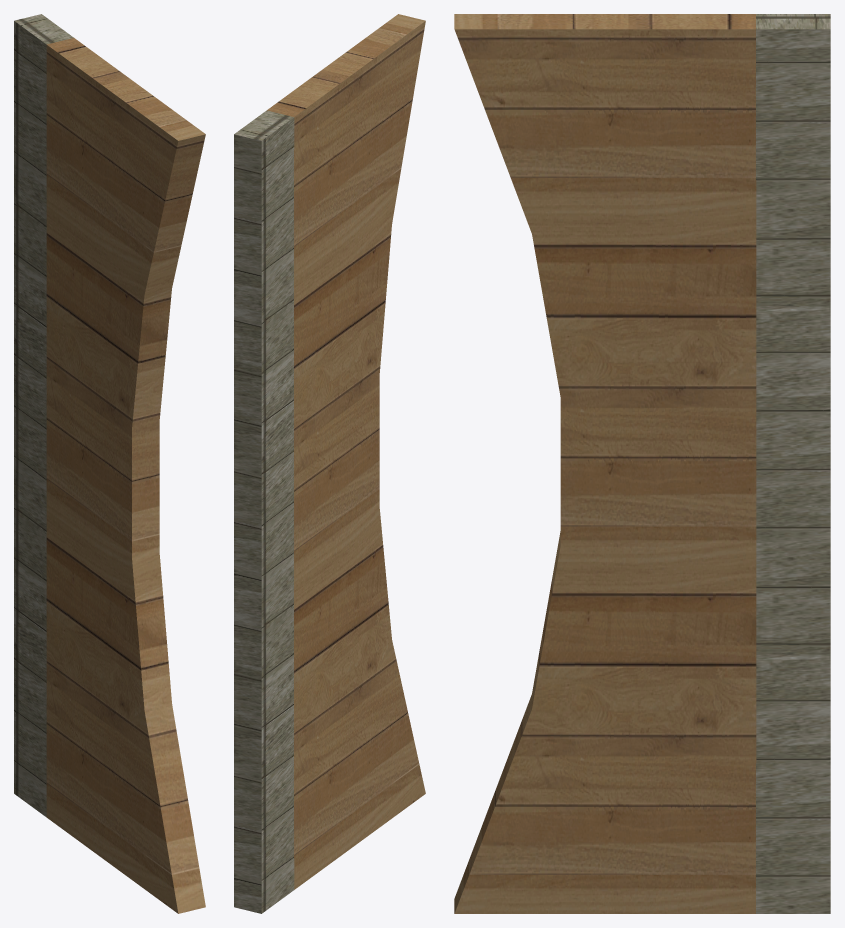
The model's file is nt_concrete_fence_128_LOD1.obj.
The picture shows the model from 3 angles, left to right: view 1: azimuth 30°, elevation 25°; view 2: azimuth 150°, elevation 25°; view 3: azimuth 270°, elevation 25°; orthographic projection. The views are drawn at different scales.
Visible parts, largest first — view 1: nt_wood_fence, nt_2020_concrete_pattern_02; view 2: nt_wood_fence, nt_2020_concrete_pattern_02; view 3: nt_wood_fence, nt_2020_concrete_pattern_02.
Boxes of the visible parts, left/top/right/bottom form: nt_wood_fence: left=46, top=38, right=205, bottom=913; nt_2020_concrete_pattern_02: left=14, top=14, right=73, bottom=817; nt_wood_fence: left=267, top=14, right=425, bottom=889; nt_2020_concrete_pattern_02: left=234, top=110, right=294, bottom=913; nt_wood_fence: left=454, top=14, right=756, bottom=913; nt_2020_concrete_pattern_02: left=756, top=14, right=830, bottom=913.
Size of the model in its own units: 12.13 by 325 by 125.
Materials: 2 (2 with a texture image).
